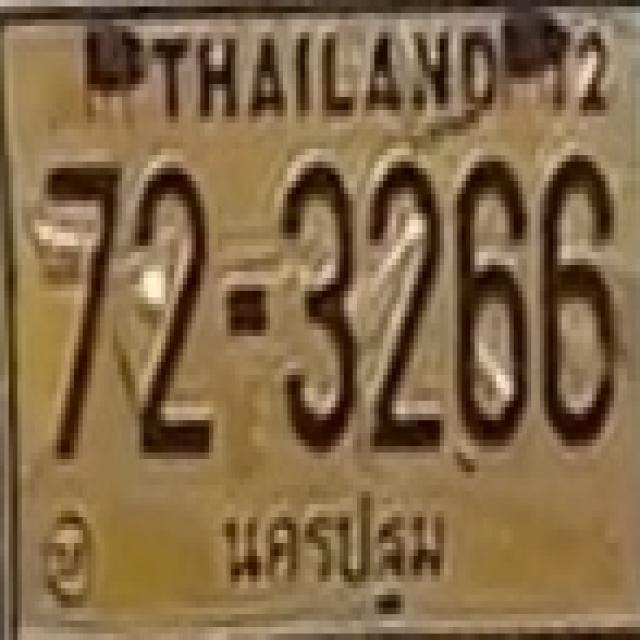2: (131, 162, 209, 452), (366, 158, 440, 450)
3: (278, 155, 352, 446)
6: (535, 148, 614, 440), (453, 155, 522, 440)
7: (37, 158, 120, 456)
NPT: (222, 483, 456, 623)
